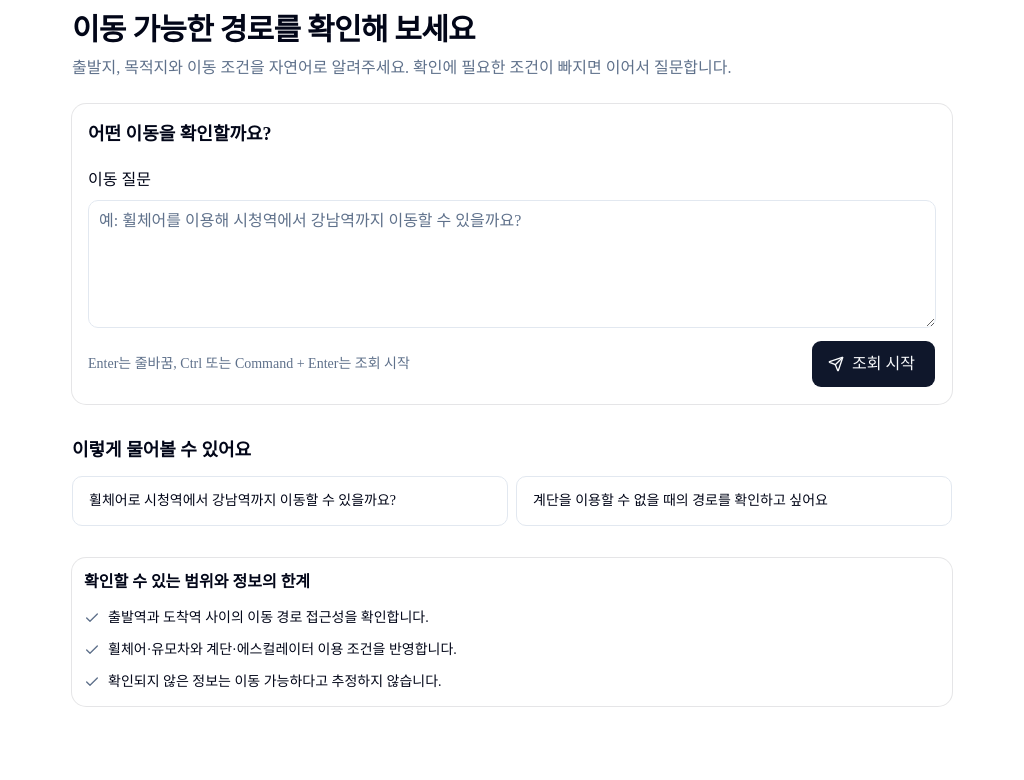
Test: AssistantWorkspace › keeps only the reason when a reply repeats the clarification question
In the text box labelled "이동 질문": (512, 264) [88,200,936,328], type "시청역 엘리베이터 지금 운행해?"
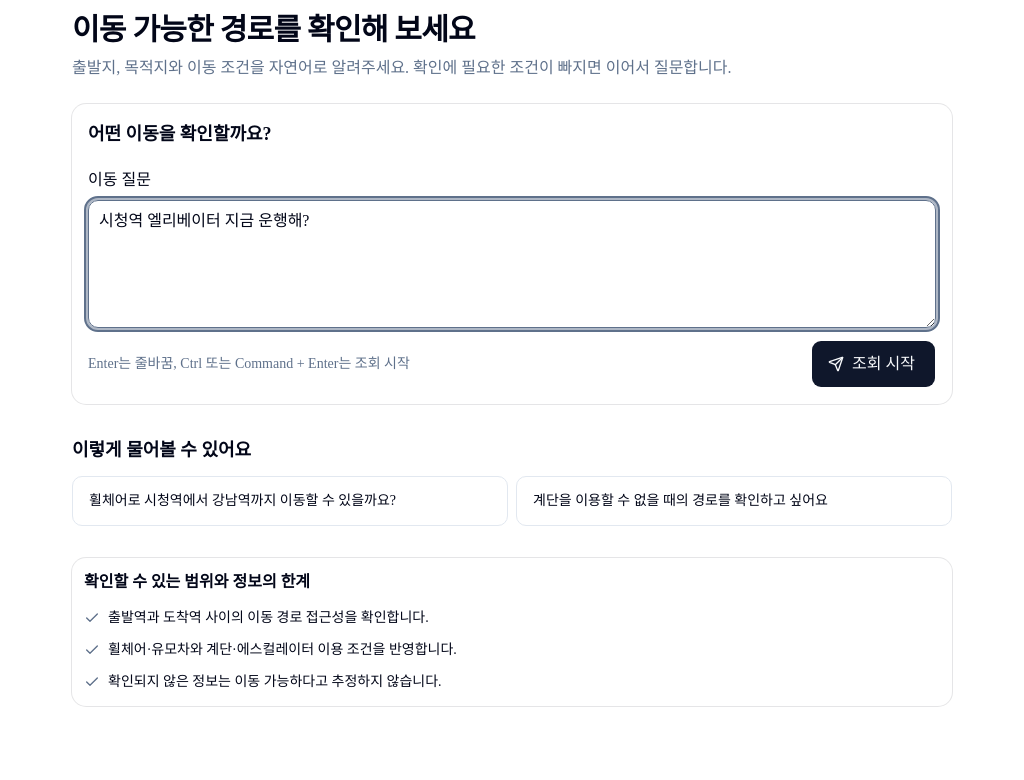
Click the button "조회 시작": (874, 364) [811,340,936,388]
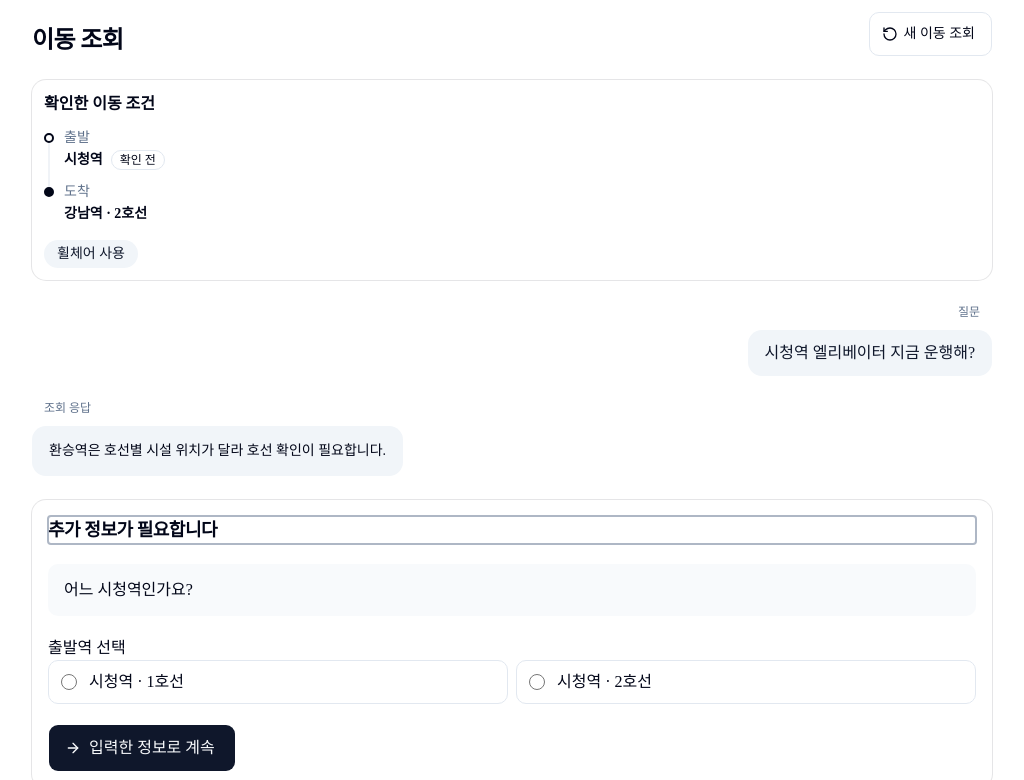
Check: the heading "추가 정보가 필요합니다" is shown, box [48,520,217,540]
Check: the text "어느 시청역인가요?" is shown once, box [64,581,193,598]
Check: the text "조회 응답" is shown, box [44,401,91,415]
